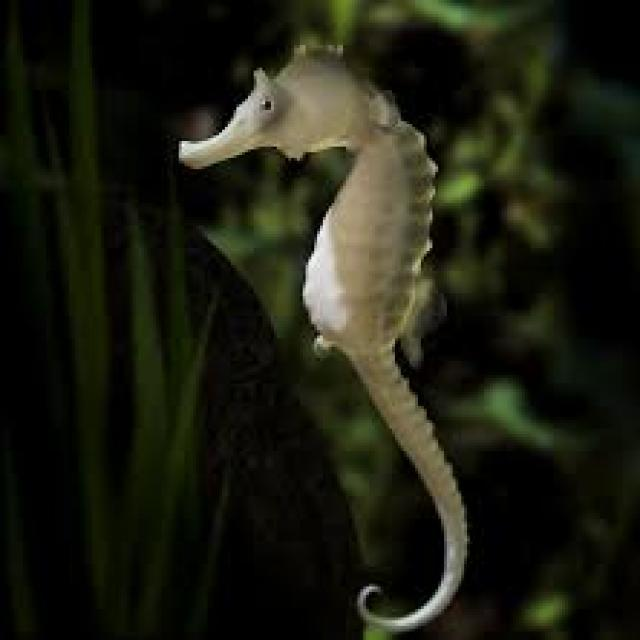SeaHorse: (176, 45, 467, 637)
